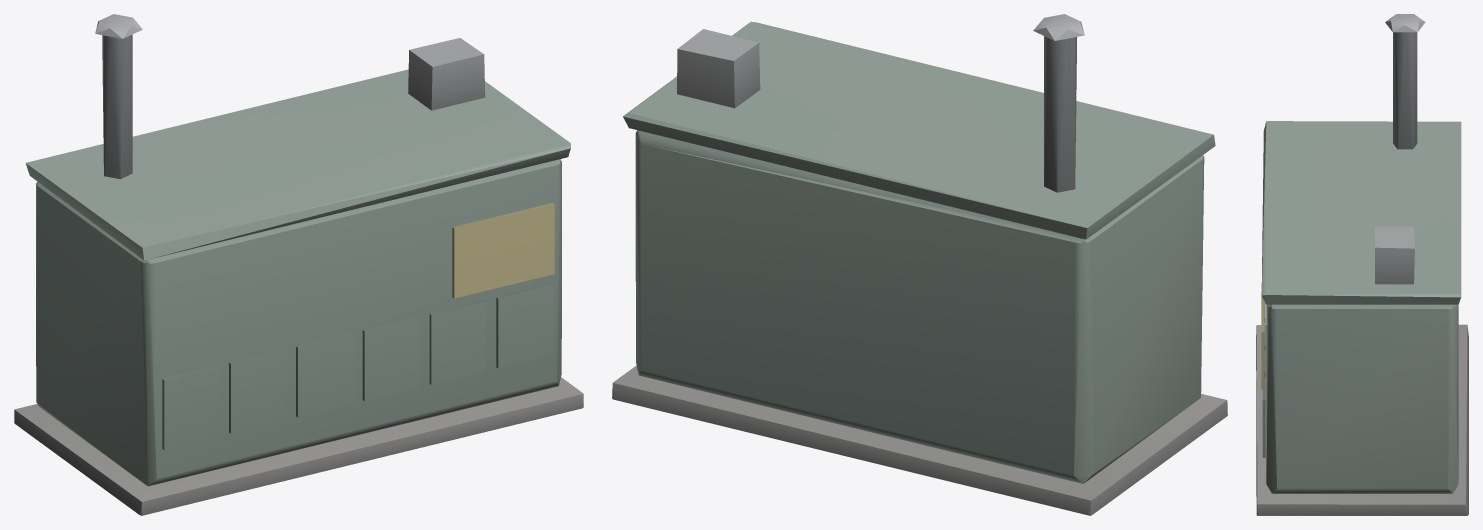
File: generator.lod1.glb
3 renders of one model, left to right at view 1: azimuth 30°, elevation 25°; view 2: azimuth 150°, elevation 25°; view 3: azimuth 270°, elevation 25°, orthographic. The views are drawn at different scales.
Bounding box in the file's own units: 3.99 × 3.55 × 1.99.
